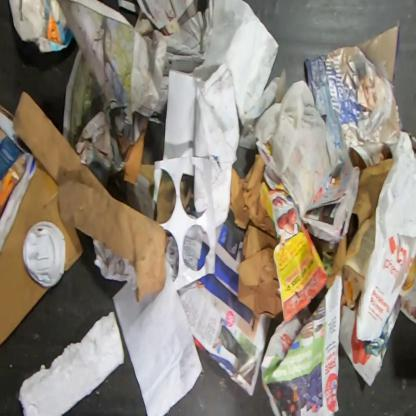cardboard: (11, 89, 166, 302), (0, 161, 84, 346)
rigid_plastic: (22, 221, 67, 290)
